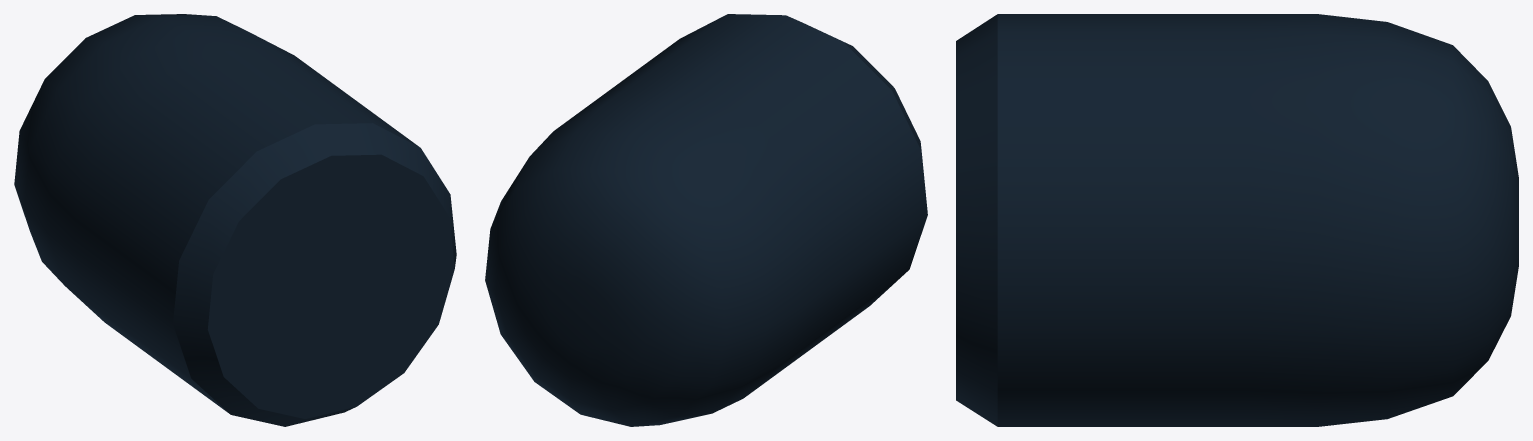
File: Bullet.fbx
The picture shows the model from 3 angles, left to right: view 1: azimuth 30°, elevation 25°; view 2: azimuth 150°, elevation 25°; view 3: azimuth 270°, elevation 25°; orthographic projection. The views are drawn at different scales.
Parts seen in each view (by area): view 1: tank_ammo; view 2: tank_ammo; view 3: tank_ammo.
Boxes of the visible parts, box(x1,y1,x2,y2) form: tank_ammo: box(14, 14, 456, 426); tank_ammo: box(485, 14, 927, 426); tank_ammo: box(956, 14, 1518, 426).
Size of the model in its own units: 1.99 by 2.7 by 1.98.
